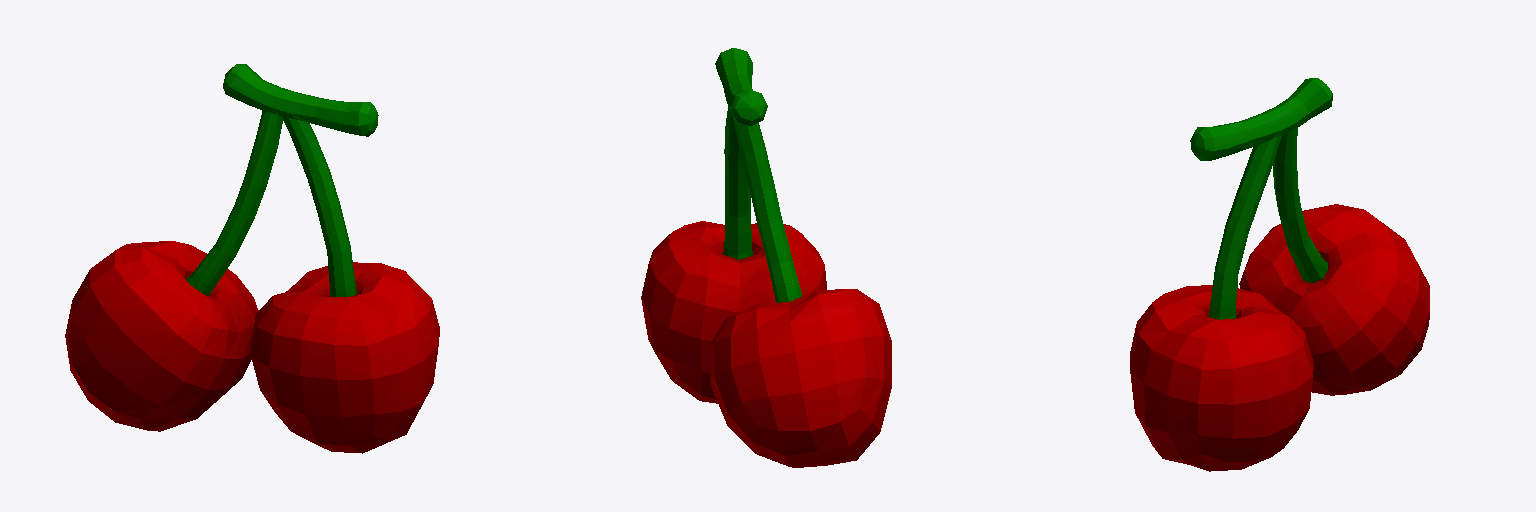
The picture shows the model from 3 angles: view 1: azimuth 30°, elevation 25°; view 2: azimuth 150°, elevation 25°; view 3: azimuth 270°, elevation 25°; orthographic projection.
Parts seen in each view (by area): view 1: Cherries; view 2: Cherries; view 3: Cherries.
Boxes of the visible parts, <box> form: Cherries: <box>65,64,439,453</box>; Cherries: <box>641,48,891,467</box>; Cherries: <box>1130,78,1429,471</box>.
Size of the model in its own units: 0.2001 by 0.2357 by 0.1801.
Materials: 1 (1 with a texture image).